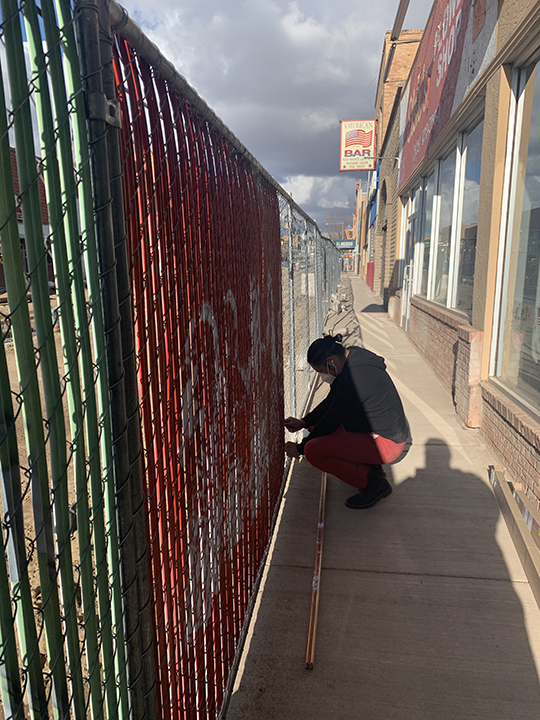Fence: (9, 5, 288, 719)
Person: (282, 335, 417, 509)
